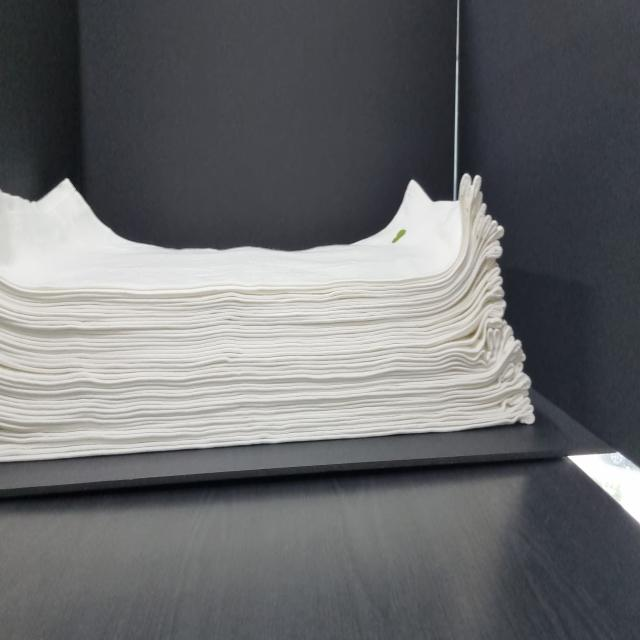not_50count_towel: (0, 166, 545, 472)
